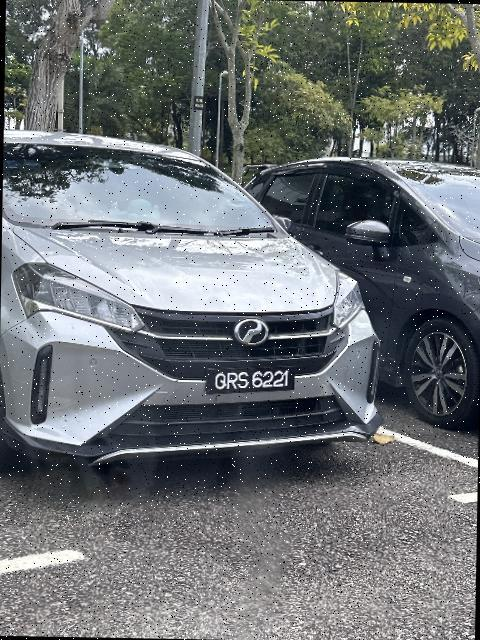License_Plate: (203, 362, 300, 400)
QRS6221: (203, 362, 300, 400)
car: (1, 116, 386, 472), (237, 147, 480, 425)
